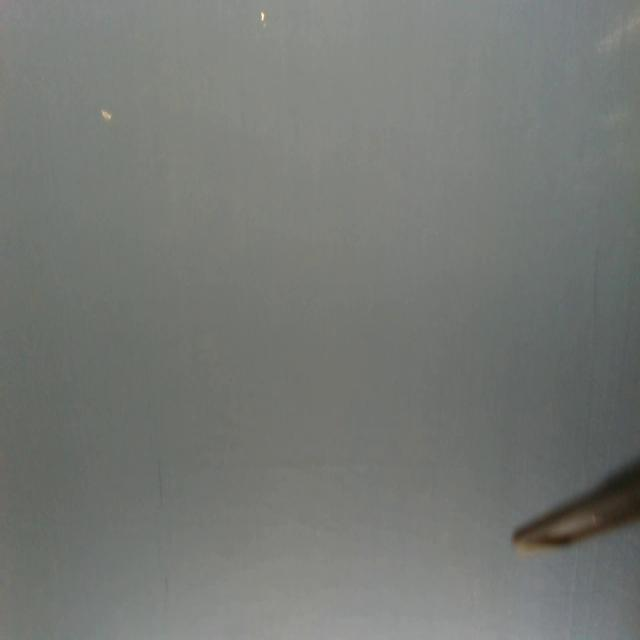hole: (100, 109, 111, 121), (260, 10, 266, 29)
